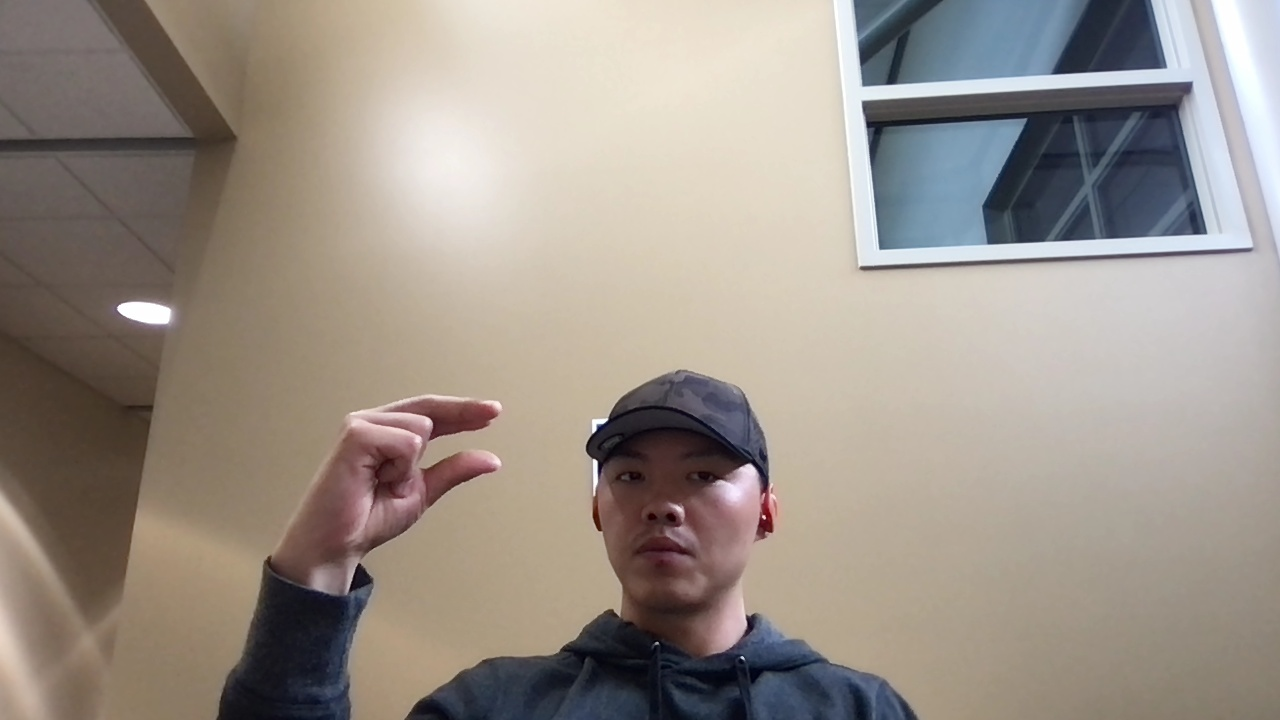No: (264, 393, 514, 570)
